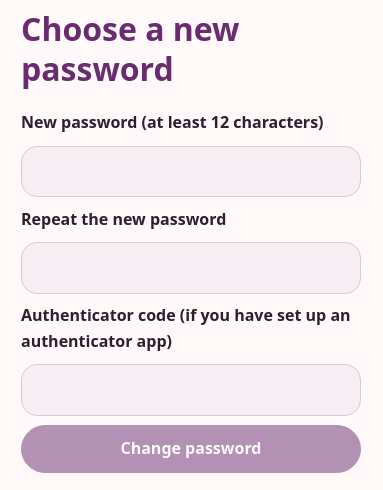
Test: ResetPassword › takes the token from the link, removes it from the address bar, and sends it with the new password
Check: the button "Change password" is disabled, box [21, 425, 361, 473]
Type "a-long-new-passphrase" into the password field labelled "New password (at least 12 characters)".
click(191, 171); type("a-long-new-passphrase")  # box [21, 146, 361, 197]
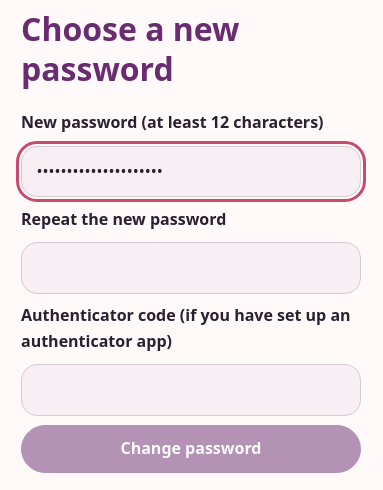
Type "a-long-new-passphrase" into the password field labelled "Repeat the new password".
click(191, 268); type("a-long-new-passphrase")  # box [21, 242, 361, 294]
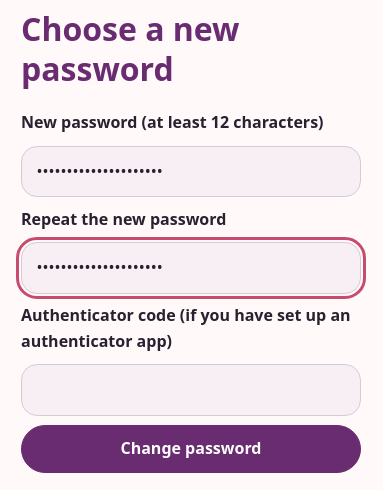
Type "123456" into the field labelled "Authenticator code (if you have set up an authenticator app)".
click(191, 390); type("123456")  # box [21, 364, 361, 416]
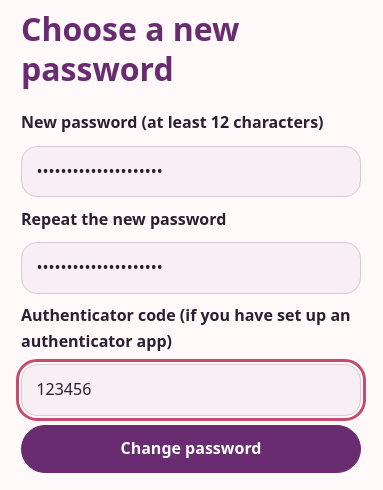
Click the button "Change password".
click(191, 449)  # box [21, 425, 361, 473]
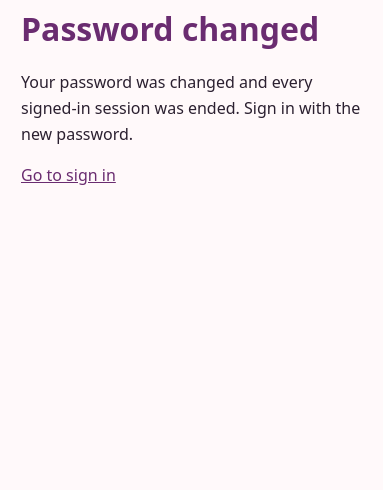
Check: the message shows "was changed", box [21, 71, 360, 145]
